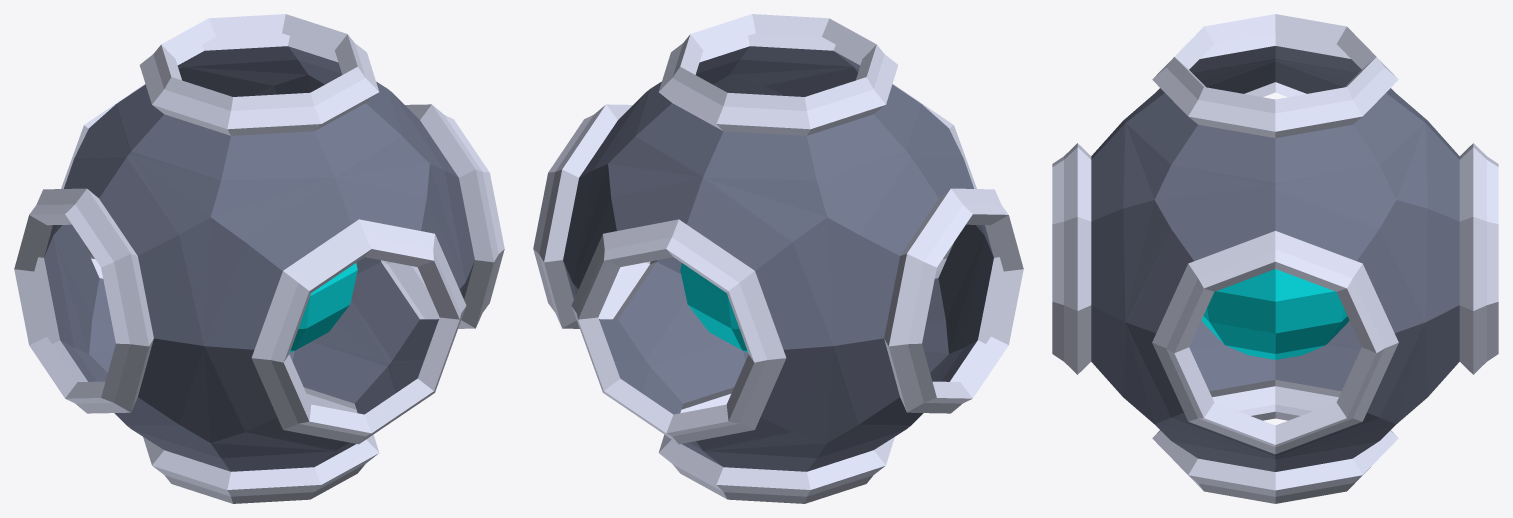
Rendered from glow_orb.obj.
The picture shows the model from 3 angles, left to right: view 1: azimuth 30°, elevation 25°; view 2: azimuth 150°, elevation 25°; view 3: azimuth 270°, elevation 25°; orthographic projection.
Visible parts, largest first — view 1: Final_Sphere.001; view 2: Final_Sphere.001; view 3: Final_Sphere.001.
Part boxes in pixels (bbox=[...]): Final_Sphere.001: bbox=[14, 14, 504, 503]; Final_Sphere.001: bbox=[533, 14, 1023, 503]; Final_Sphere.001: bbox=[1052, 14, 1498, 503].
Bounding box in the file's own units: 4.41 × 4.41 × 4.41.
Materials: 1 (1 with a texture image).
